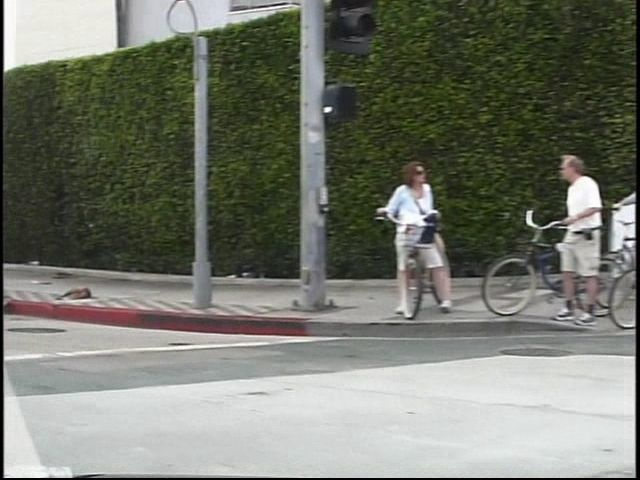person: (375, 159, 440, 325), (540, 153, 591, 333)
